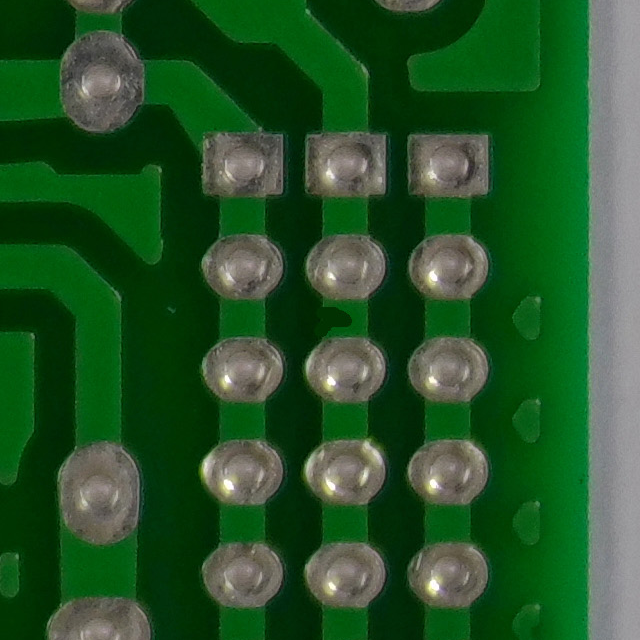mouse_bite: (310, 293, 375, 348)
